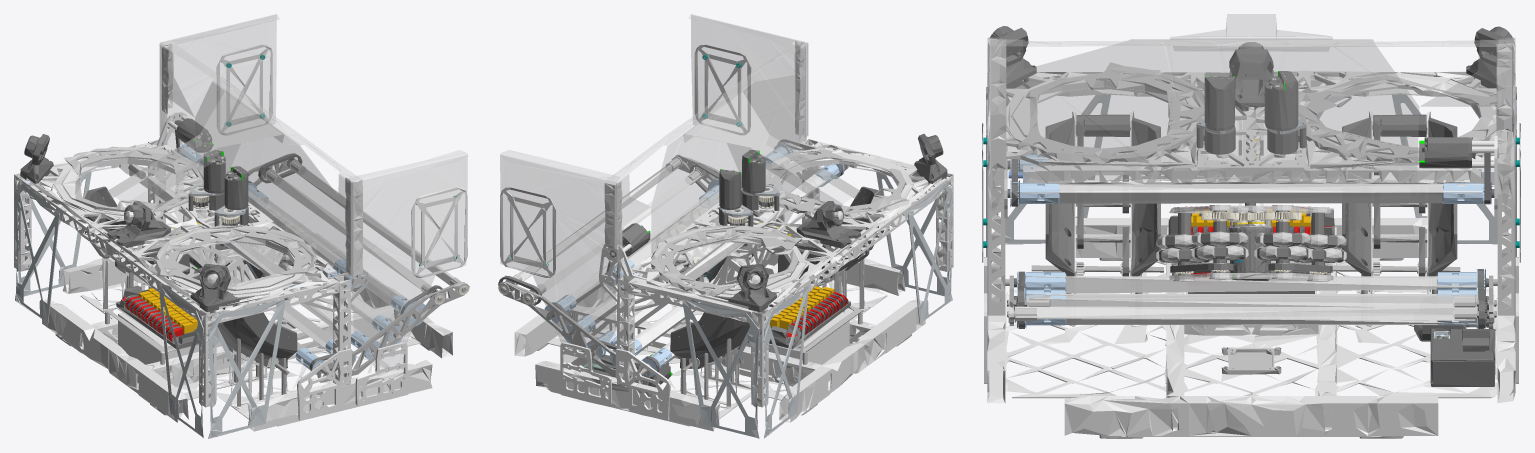
The model's file is 971-body.glb.
The picture shows the model from 3 angles, left to right: view 1: azimuth 30°, elevation 25°; view 2: azimuth 150°, elevation 25°; view 3: azimuth 270°, elevation 25°; orthographic projection. The views are drawn at different scales.
Parts seen in each view (by area): view 1: Guard, Lens, tup plate, shaft, Mega Gusset, Aluminum Tube Plug (1" x 1" x 0.06" Tube), Sphinx, 12t Steel Spur Gear (20 DP, 14T Center Distance, SplineXS Bo, ramp print mirror, ramp shaft, HubPrint-1.25-18t, PDP 2.0 (+3 smaller); view 2: Guard, Lens, tup plate, Mega Gusset, shaft, Sphinx, Aluminum Tube Plug (1" x 1" x 0.06" Tube), 12t Steel Spur Gear (20 DP, 14T Center Distance, SplineXS Bo, ramp shaft, ramp print mirror, HubPrint-1.25-18t, PDP 2.0 (+3 smaller); view 3: Guard, Lens, tup plate, Sphinx, shaft, 12t Steel Spur Gear (20 DP, 14T Center Distance, SplineXS Bo, ramp print mirror, Aluminum Tube Plug (1" x 1" x 0.06" Tube), HubPrint-1.25-18t, 3.25" Omni Wheel (1/2" Hex Bore), Mega Gusset, ramp shaft (+6 smaller).
Part boxes in pixels (x1=…): Guard: x1=107, y1=14, x2=467, y2=376; Lens: x1=14, y1=44, x2=467, y2=431; tup plate: x1=129, y1=151, x2=457, y2=366; shaft: x1=55, y1=146, x2=464, y2=415; Mega Gusset: x1=14, y1=172, x2=285, y2=438; Aluminum Tube Plug (1" x 1" x 0.06" Tube): x1=53, y1=44, x2=399, y2=377; Sphinx: x1=20, y1=120, x2=346, y2=360; 12t Steel Spur Gear (20 DP, 14T Center Distance, SplineXS Bo: x1=174, y1=118, x2=437, y2=301; ramp print mirror: x1=84, y1=165, x2=413, y2=368; ramp shaft: x1=103, y1=154, x2=469, y2=406; HubPrint-1.25-18t: x1=176, y1=143, x2=426, y2=374; PDP 2.0: x1=116, y1=285, x2=198, y2=348; Guard: x1=500, y1=14, x2=860, y2=369; Lens: x1=500, y1=44, x2=953, y2=431; tup plate: x1=513, y1=159, x2=839, y2=368; Mega Gusset: x1=682, y1=166, x2=952, y2=438; shaft: x1=505, y1=139, x2=911, y2=415; Sphinx: x1=571, y1=133, x2=947, y2=384; Aluminum Tube Plug (1" x 1" x 0.06" Tube): x1=573, y1=40, x2=913, y2=377; 12t Steel Spur Gear (20 DP, 14T Center Distance, SplineXS Bo: x1=506, y1=150, x2=779, y2=387; ramp shaft: x1=499, y1=155, x2=864, y2=406; ramp print mirror: x1=552, y1=186, x2=881, y2=368; HubPrint-1.25-18t: x1=544, y1=142, x2=844, y2=376; PDP 2.0: x1=760, y1=292, x2=850, y2=349; Guard: x1=987, y1=14, x2=1515, y2=348; Lens: x1=982, y1=70, x2=1520, y2=436; tup plate: x1=1016, y1=155, x2=1482, y2=324; Sphinx: x1=989, y1=26, x2=1514, y2=386; shaft: x1=1004, y1=62, x2=1502, y2=438; 12t Steel Spur Gear (20 DP, 14T Center Distance, SplineXS Bo: x1=1016, y1=71, x2=1498, y2=341; ramp print mirror: x1=1007, y1=111, x2=1494, y2=319; Aluminum Tube Plug (1" x 1" x 0.06" Tube): x1=988, y1=38, x2=1514, y2=175; HubPrint-1.25-18t: x1=1010, y1=154, x2=1491, y2=328; 3.25" Omni Wheel (1/2" Hex Bore): x1=1156, y1=231, x2=1346, y2=262; Mega Gusset: x1=986, y1=77, x2=1516, y2=256; ramp shaft: x1=997, y1=212, x2=1506, y2=328.
Size of the model in its own units: 0.6257 by 0.4919 by 0.7638.
